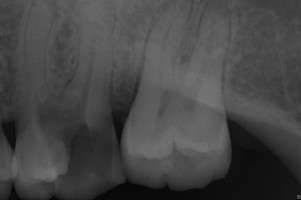Endo-Periodontal Lesion: (179, 54, 194, 63)
